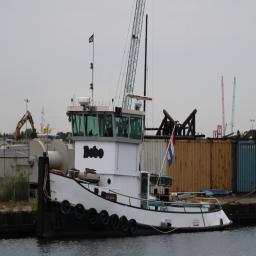tugboat: (38, 95, 235, 244)
